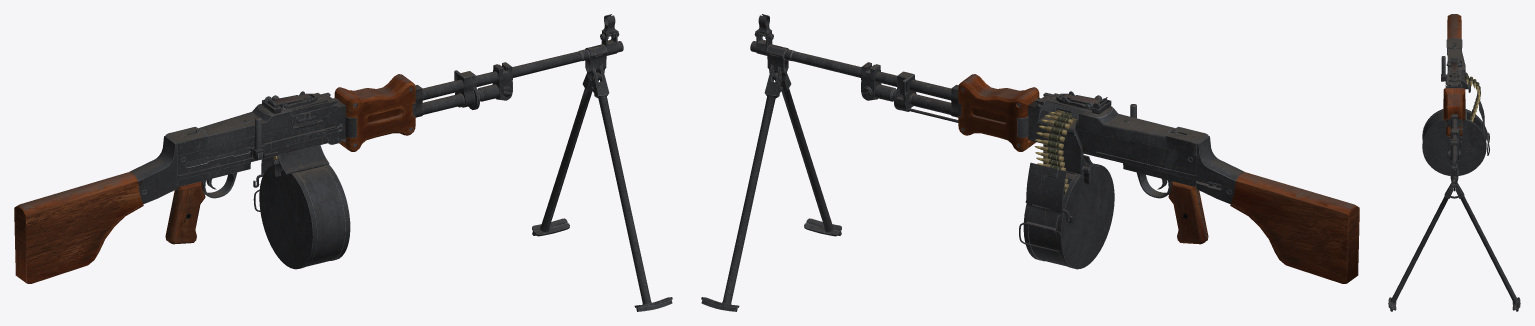
Rendered from rpd.glb.
3 renders of one model, left to right at view 1: azimuth 30°, elevation 25°; view 2: azimuth 150°, elevation 25°; view 3: azimuth 270°, elevation 25°, orthographic. The views are drawn at different scales.
Parts seen in each view (by area): view 1: Cube.014_low, Cylinder.037_low, Cube.019_low, Cube.008_low, Cube.002_low, Cube.022_low, Cube.003_low, Cylinder.001_low, Cube.010_low, Cylinder.004_low, Cube.012_low, Cube.006_low (+3 smaller); view 2: Cube.014_low, Cylinder.037_low, Cube.019_low, Cube.008_low, Cube.002_low, Cube.022_low, Cube.003_low, Cylinder.001_low, Cube.010_low, Cylinder.026_low, Cylinder.004_low, Cube.012_low (+6 smaller); view 3: Cylinder.037_low, Cube.019_low, Cube.008_low, Cube.014_low, Cylinder.001_low, Cube.003_low, Cylinder.009_low, Cylinder.025_low, Cube.006_low, Cylinder.030_low, Cylinder.013_low, Cube.016_low (+2 smaller).
Boxes of the visible parts, bbox=[...] form: Cube.014_low: bbox=[14, 172, 143, 283]; Cylinder.037_low: bbox=[259, 164, 350, 269]; Cube.019_low: bbox=[532, 67, 672, 311]; Cube.008_low: bbox=[334, 74, 415, 151]; Cube.002_low: bbox=[130, 135, 277, 240]; Cube.022_low: bbox=[177, 98, 345, 175]; Cube.003_low: bbox=[188, 103, 291, 147]; Cylinder.001_low: bbox=[422, 41, 623, 100]; Cube.010_low: bbox=[165, 181, 205, 244]; Cylinder.004_low: bbox=[422, 62, 512, 114]; Cube.012_low: bbox=[277, 145, 329, 174]; Cube.006_low: bbox=[165, 126, 208, 155]; Cube.014_low: bbox=[1230, 172, 1359, 283]; Cylinder.037_low: bbox=[1023, 163, 1114, 269]; Cube.019_low: bbox=[701, 67, 841, 311]; Cube.008_low: bbox=[958, 74, 1039, 151]; Cube.002_low: bbox=[1096, 135, 1243, 240]; Cube.022_low: bbox=[1028, 98, 1196, 175]; Cube.003_low: bbox=[1078, 106, 1185, 147]; Cylinder.001_low: bbox=[750, 41, 951, 100]; Cube.010_low: bbox=[1168, 181, 1208, 244]; Cylinder.026_low: bbox=[1026, 162, 1066, 211]; Cylinder.004_low: bbox=[861, 62, 951, 114]; Cube.012_low: bbox=[1043, 130, 1098, 175]; Cylinder.037_low: bbox=[1422, 109, 1486, 175]; Cube.019_low: bbox=[1388, 182, 1520, 311]; Cube.008_low: bbox=[1443, 88, 1465, 136]; Cube.014_low: bbox=[1447, 14, 1461, 54]; Cylinder.001_low: bbox=[1451, 118, 1457, 183]; Cube.003_low: bbox=[1447, 44, 1465, 72]; Cylinder.009_low: bbox=[1446, 128, 1463, 150]; Cylinder.025_low: bbox=[1464, 75, 1480, 121]; Cube.006_low: bbox=[1446, 39, 1462, 54]; Cylinder.030_low: bbox=[1463, 75, 1480, 119]; Cylinder.013_low: bbox=[1447, 73, 1470, 92]; Cube.016_low: bbox=[1449, 59, 1460, 74].
Bounding box in the file's own units: 4.43 × 1.79 × 1.4.
Materials: 1 (1 with a texture image).
